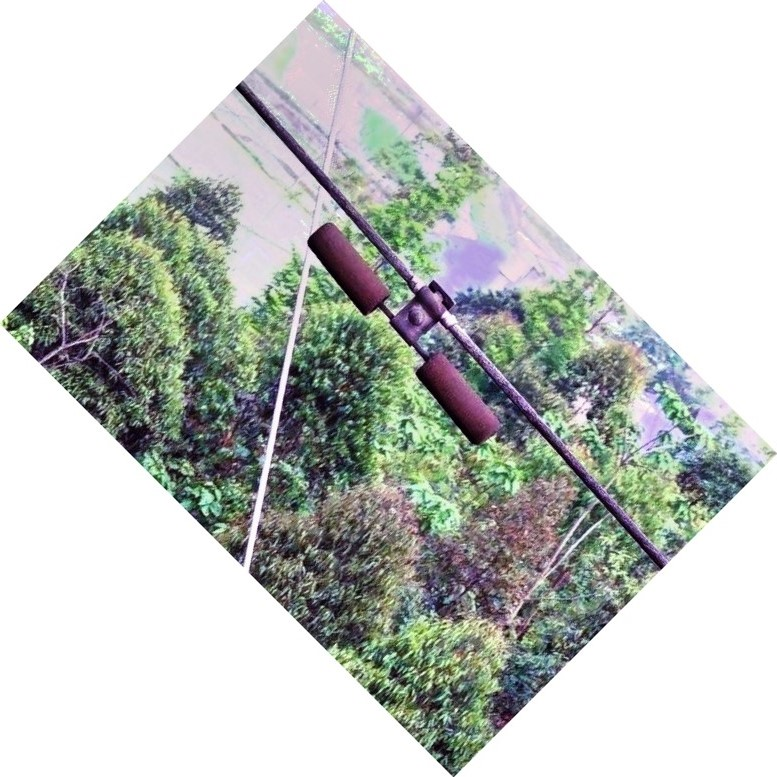Shockproof hammer: (304, 186, 514, 451)
